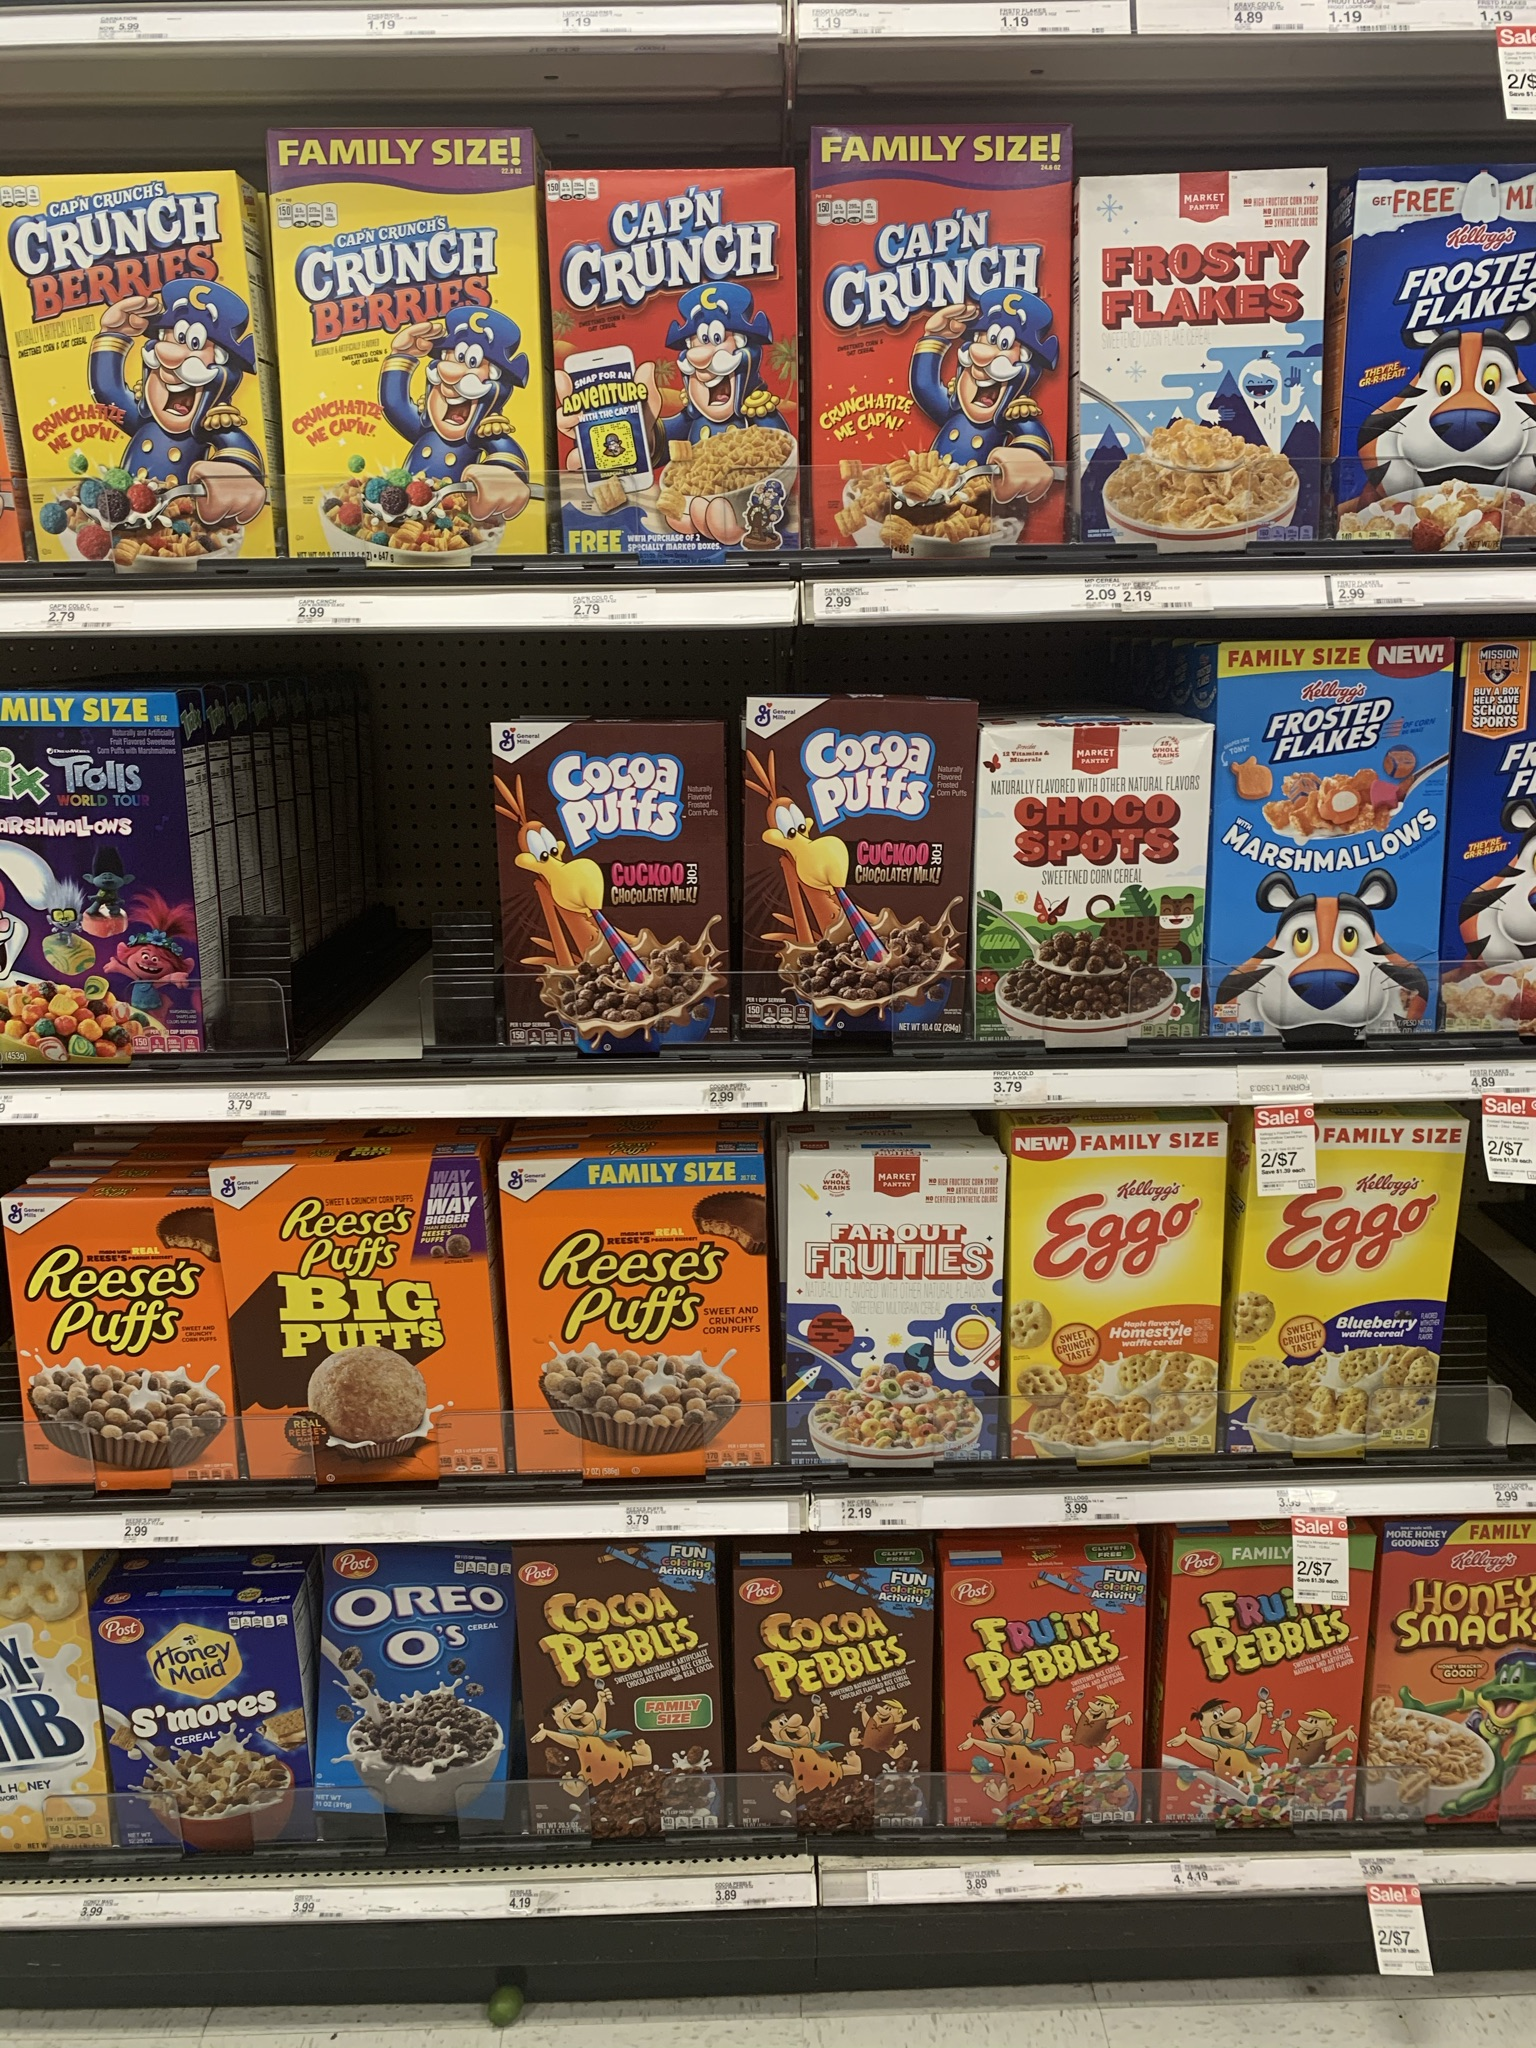cereal: (269, 142, 536, 572), (797, 127, 1063, 531), (544, 169, 805, 568), (2, 176, 263, 542), (1083, 177, 1325, 555), (211, 1164, 494, 1480), (731, 687, 965, 1053), (511, 1166, 776, 1480), (1225, 647, 1431, 1039), (1008, 1127, 1233, 1471), (495, 726, 721, 1061), (2, 701, 202, 1071), (978, 731, 1208, 1043), (1347, 177, 1536, 555), (787, 1151, 1000, 1476), (8, 1200, 223, 1492), (1254, 1121, 1439, 1455), (720, 1553, 931, 1843), (516, 1551, 724, 1837), (936, 1566, 1144, 1851), (329, 1546, 510, 1871), (1158, 1540, 1359, 1832), (94, 1605, 305, 1854), (1376, 1522, 1536, 1822), (2, 1555, 69, 1892)
